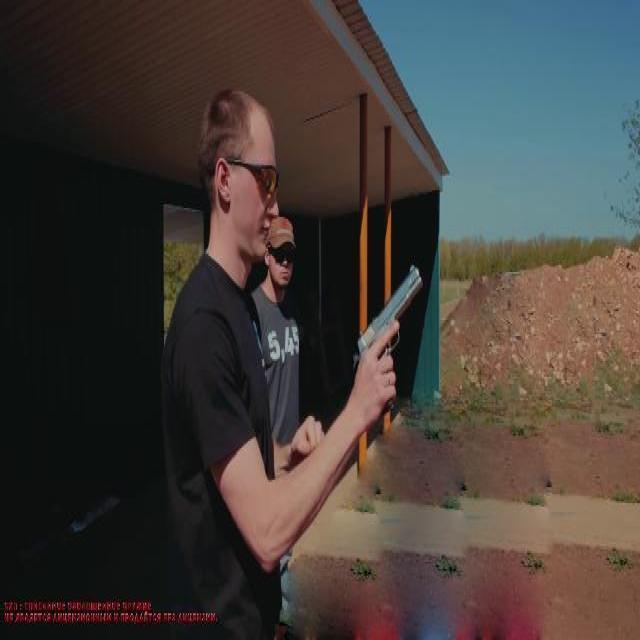pistol: (356, 264, 422, 414)
